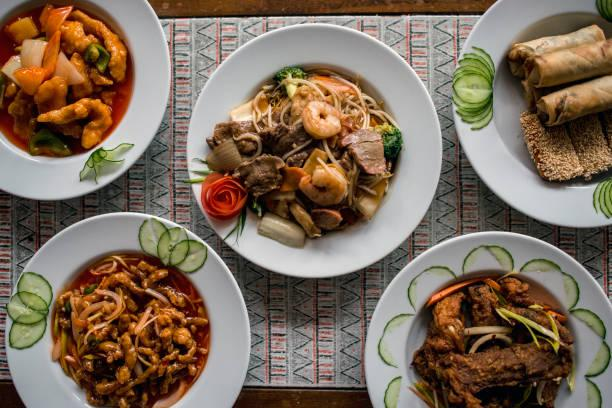Braised Crucian Carp: (189, 22, 438, 279), (6, 212, 248, 407), (365, 230, 609, 406), (455, 1, 610, 228), (2, 0, 171, 202)
